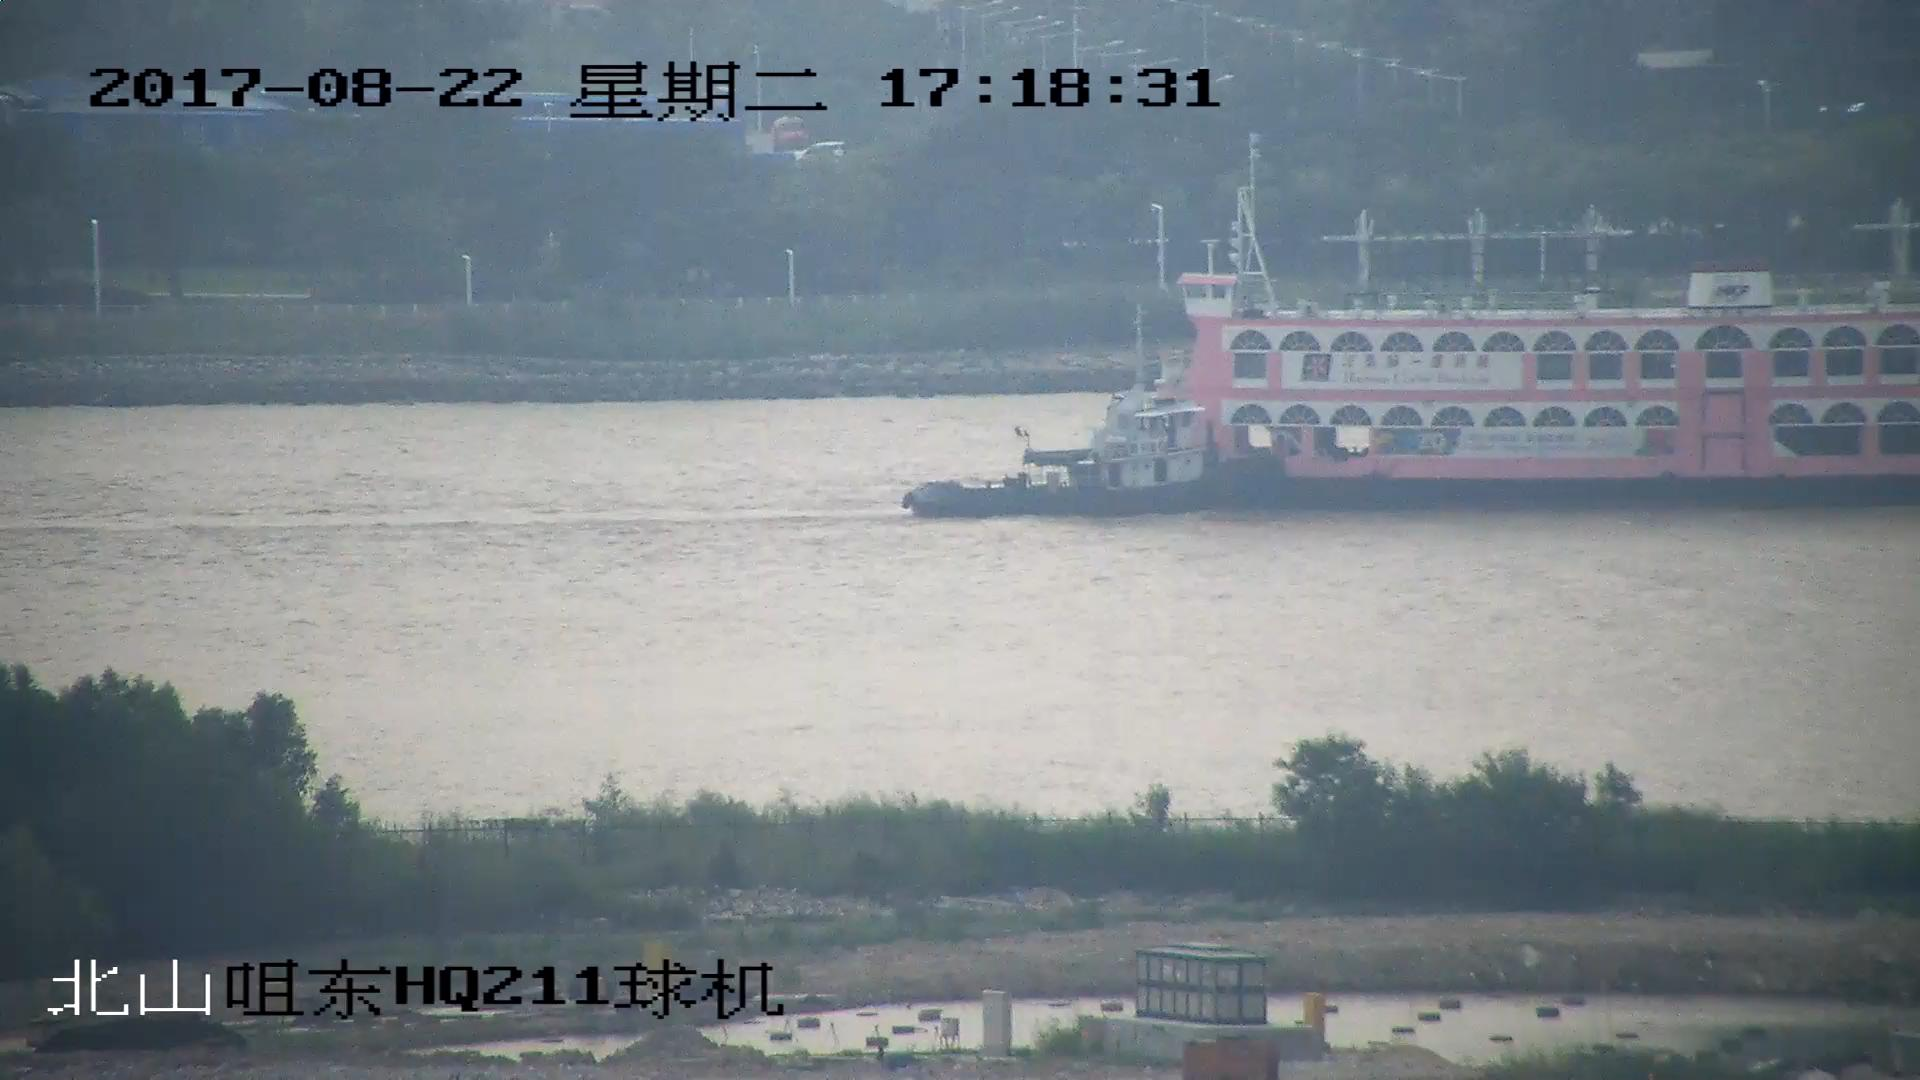passenger ship: (906, 186, 1920, 515)
